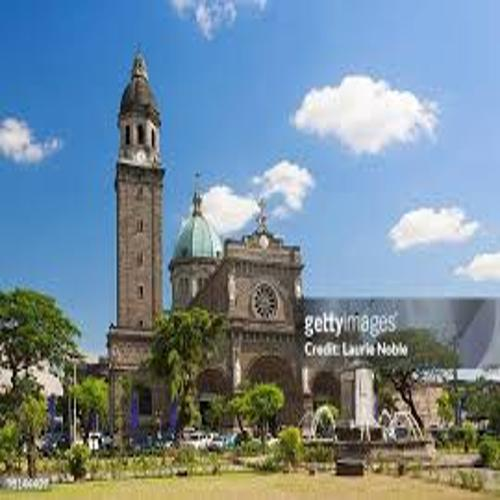Manila Cathedral Church: (64, 25, 314, 442)
